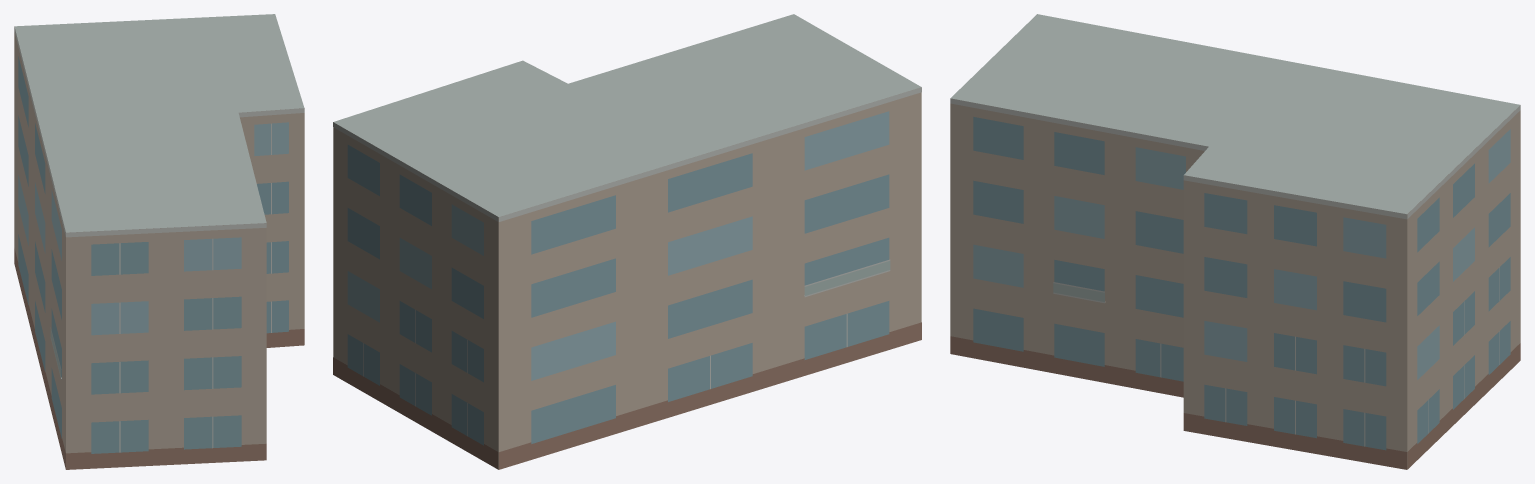
Rendered from survey-upis-32779575.glb.
3 renders of one model, left to right at view 1: azimuth 30°, elevation 25°; view 2: azimuth 150°, elevation 25°; view 3: azimuth 270°, elevation 25°, orthographic. The views are drawn at different scales.
Parts seen in each view (by area): view 1: survey-upis-32779575.tmp; view 2: survey-upis-32779575.tmp; view 3: survey-upis-32779575.tmp.
Boxes of the visible parts, bbox=[...] form: survey-upis-32779575.tmp: bbox=[14, 14, 304, 469]; survey-upis-32779575.tmp: bbox=[333, 14, 921, 469]; survey-upis-32779575.tmp: bbox=[950, 14, 1520, 469].
Size of the model in its own units: 20.34 by 12.1 by 24.47.
